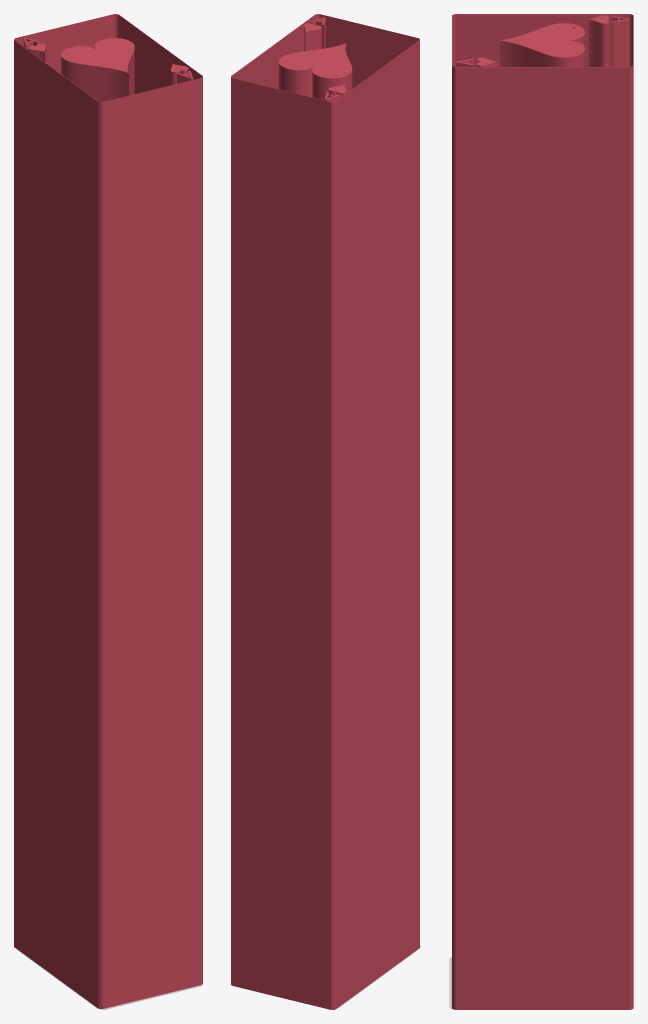
Rendered from 1_hearts.glb.
The picture shows the model from 3 angles, left to right: view 1: azimuth 30°, elevation 25°; view 2: azimuth 150°, elevation 25°; view 3: azimuth 270°, elevation 25°; orthographic projection. The views are drawn at different scales.
Visible parts, largest first — view 1: Mesh_Mesh_head_geo.001_lambert2SG.001; view 2: Mesh_Mesh_head_geo.001_lambert2SG.001; view 3: Mesh_Mesh_head_geo.001_lambert2SG.001.
Part boxes in pixels (box(x1,y1,x2,y2)): Mesh_Mesh_head_geo.001_lambert2SG.001: box(14, 14, 202, 1009); Mesh_Mesh_head_geo.001_lambert2SG.001: box(231, 14, 420, 1009); Mesh_Mesh_head_geo.001_lambert2SG.001: box(449, 14, 633, 1009).
Size of the model in its own units: 1.22 by 10 by 1.78.
